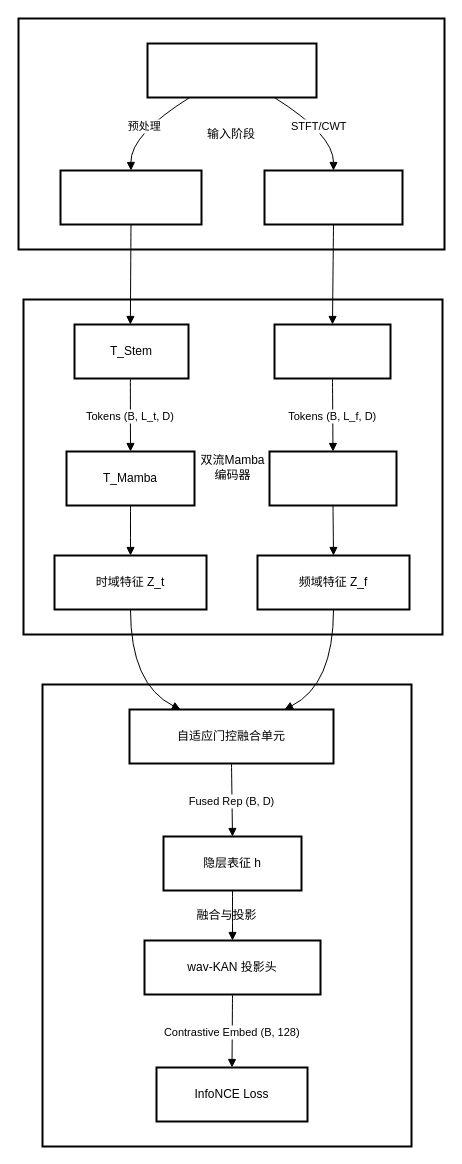
This 462x1164 diagram has some shape labels left out. Here are the shapes that lost their labels. From the top down, the box of each, then its label:
(146, 42, 317, 98): 原始心音信号 x
(59, 169, 202, 225): Time_Input
(263, 169, 403, 225): Freq_Input
(273, 323, 391, 379): F_Patch
(268, 450, 397, 506): F_Mamba
